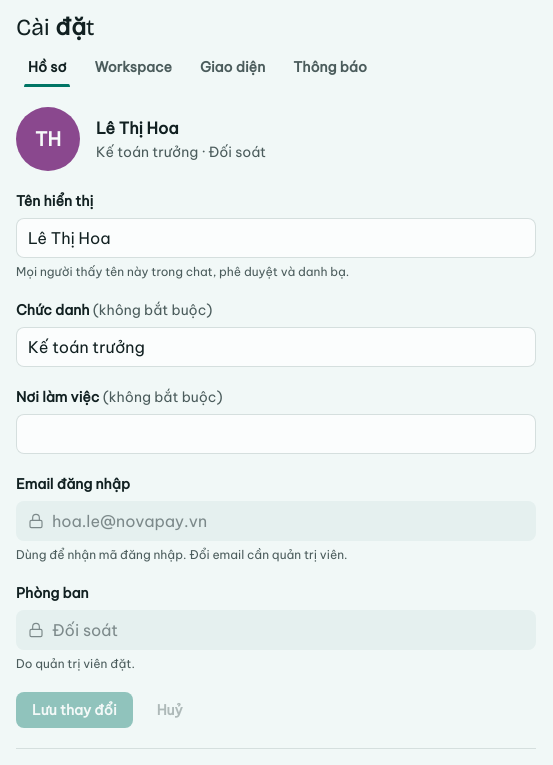
Scenario: SettingsScreen: Hồ sơ › Huỷ puts the stored values back
Type "xyz" into the field labelled "Chức danh (không bắt buộc)". click: (276,347)
box: top-left (28, 327), bottom-right (524, 367)
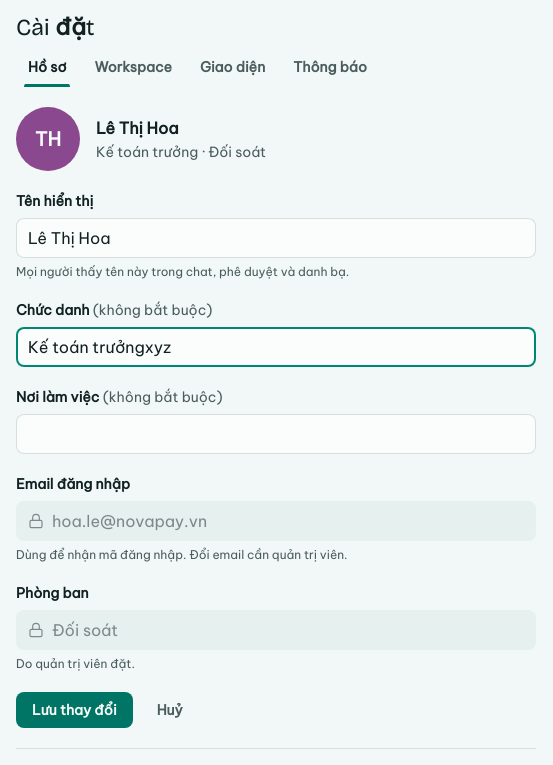
Click the button "Huỷ". click: (170,710)
box: top-left (141, 692), bottom-right (199, 728)
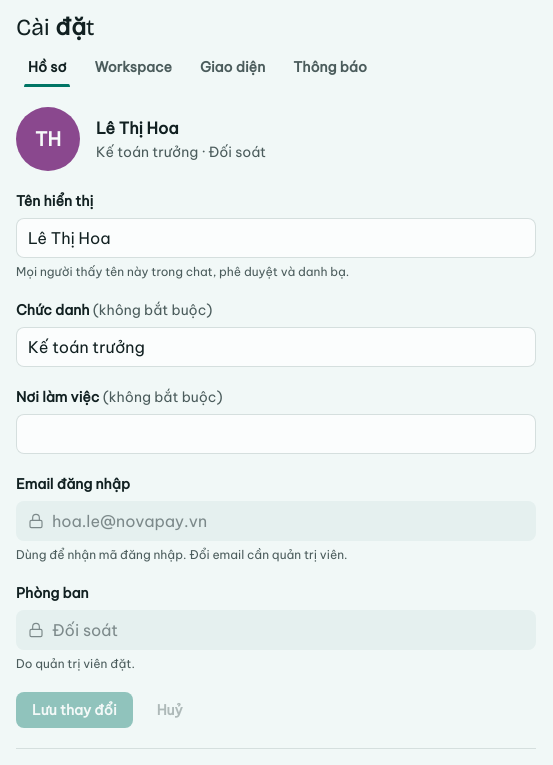
expect the field labelled "Chức danh (không bắt buộc)" holds "Kế toán trưởng": met, box top-left (28, 327), bottom-right (524, 367)
